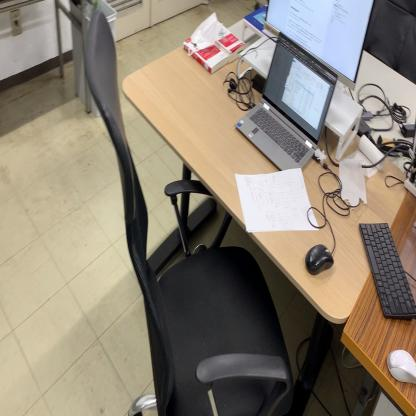chair: (83, 8, 294, 416)
